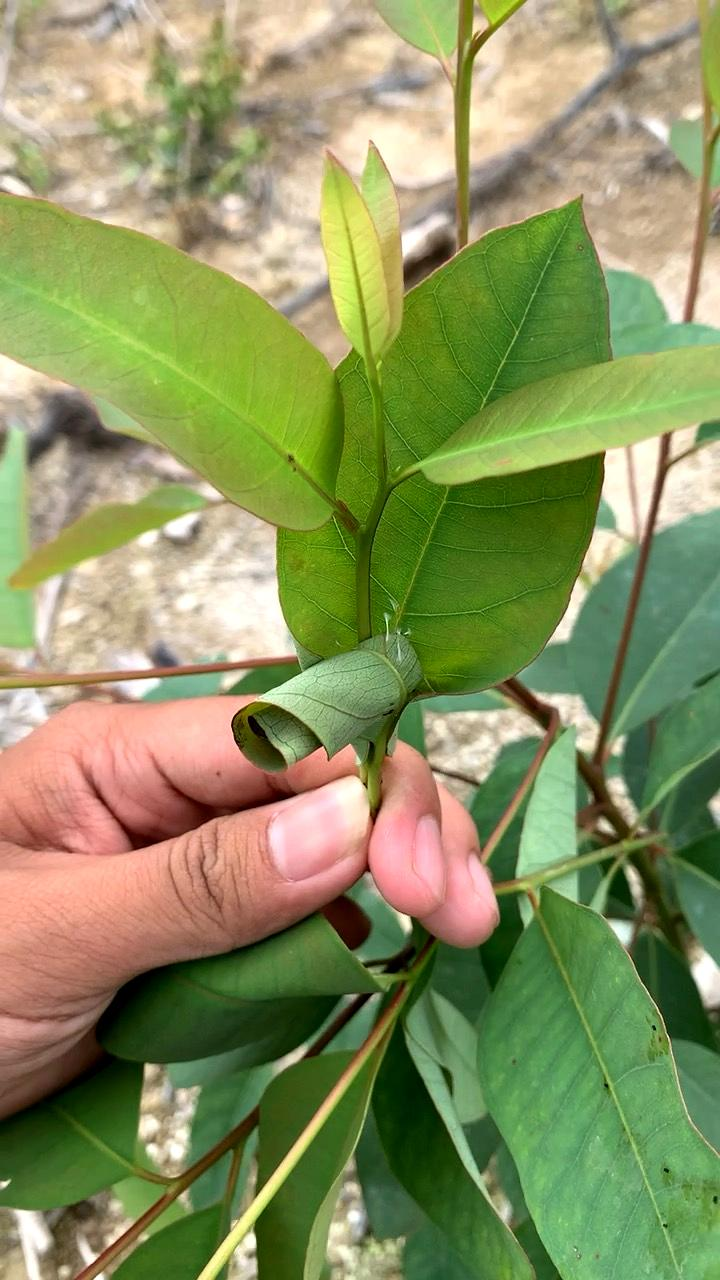Leaf Roller - Leaf: (211, 605, 466, 790)
